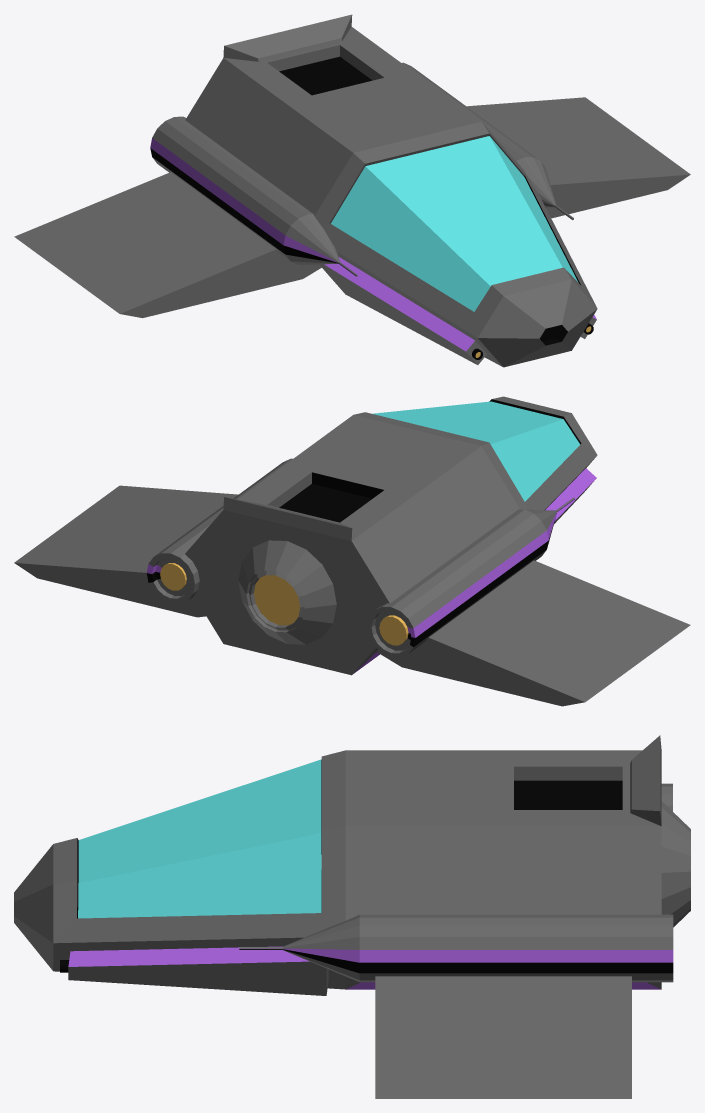
Rendered from SpaceShip.fbx.
3 renders of one model, top to bottom at view 1: azimuth 30°, elevation 25°; view 2: azimuth 150°, elevation 25°; view 3: azimuth 270°, elevation 25°, orthographic. The views are drawn at different scales.
Parts seen in each view (by area): view 1: Cube; view 2: Cube; view 3: Cube.
Boxes of the visible parts, x1,y1,x2,y2 form: Cube: (14, 14, 690, 367); Cube: (14, 396, 690, 706); Cube: (14, 735, 690, 1098).
Bounding box in the file's own units: 891 × 219 × 752.
